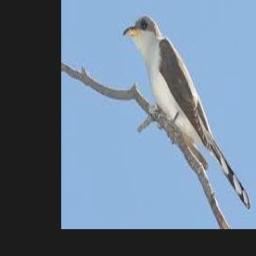Cuckoo: (123, 14, 250, 211)
